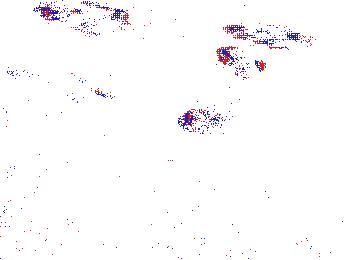X-ray fish: (173, 105, 221, 136)
redtail glassfish: (222, 19, 311, 49), (40, 1, 130, 29), (215, 44, 270, 83)
